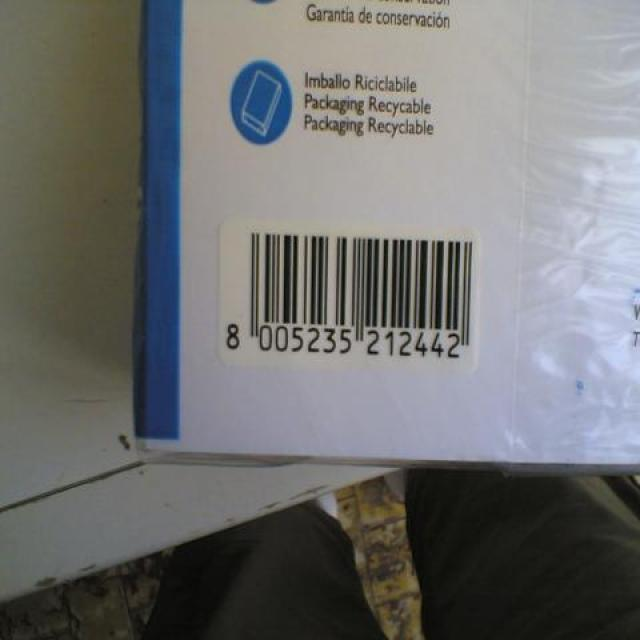Barcode: (217, 216, 483, 377)
